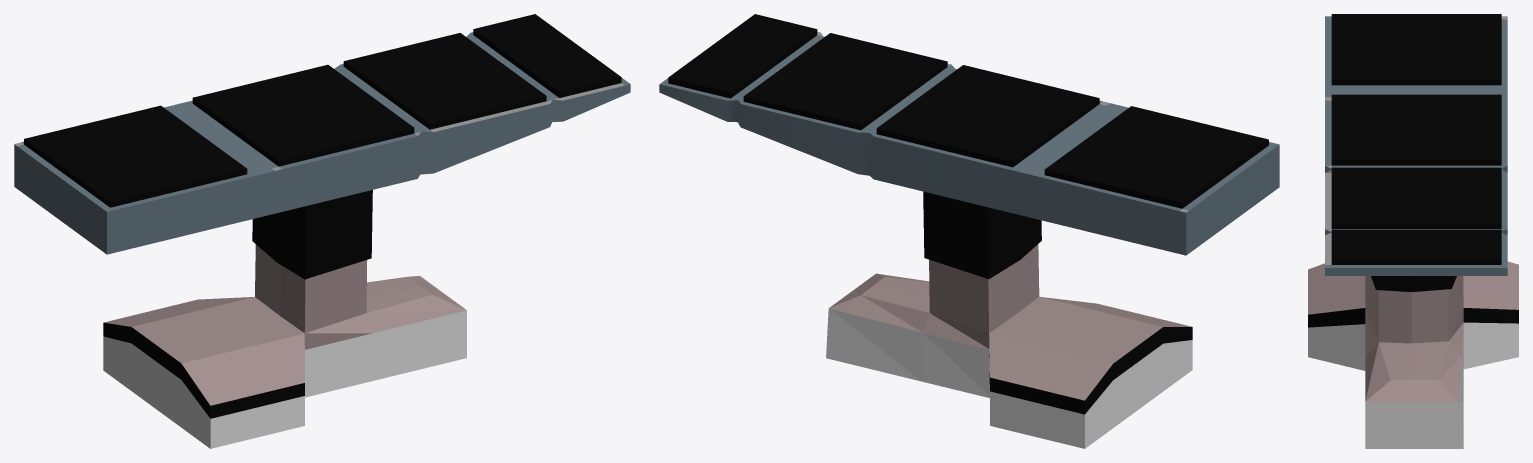
The model's file is OperatingTable(Sectioned).fbx.
The picture shows the model from 3 angles, left to right: view 1: azimuth 30°, elevation 25°; view 2: azimuth 150°, elevation 25°; view 3: azimuth 270°, elevation 25°; orthographic projection. The views are drawn at different scales.
Parts seen in each view (by area): view 1: pCube3, pCube2; view 2: pCube3, pCube2; view 3: pCube3, pCube2.
Part boxes in pixels (x1,y1,x2,y2): pCube3: (14,14,630,254); pCube2: (103,190,466,448); pCube3: (659,14,1279,255); pCube2: (826,191,1192,448); pCube3: (1325,14,1507,275); pCube2: (1308,261,1518,448).
Size of the model in its own units: 5.55 by 2.63 by 1.96.
